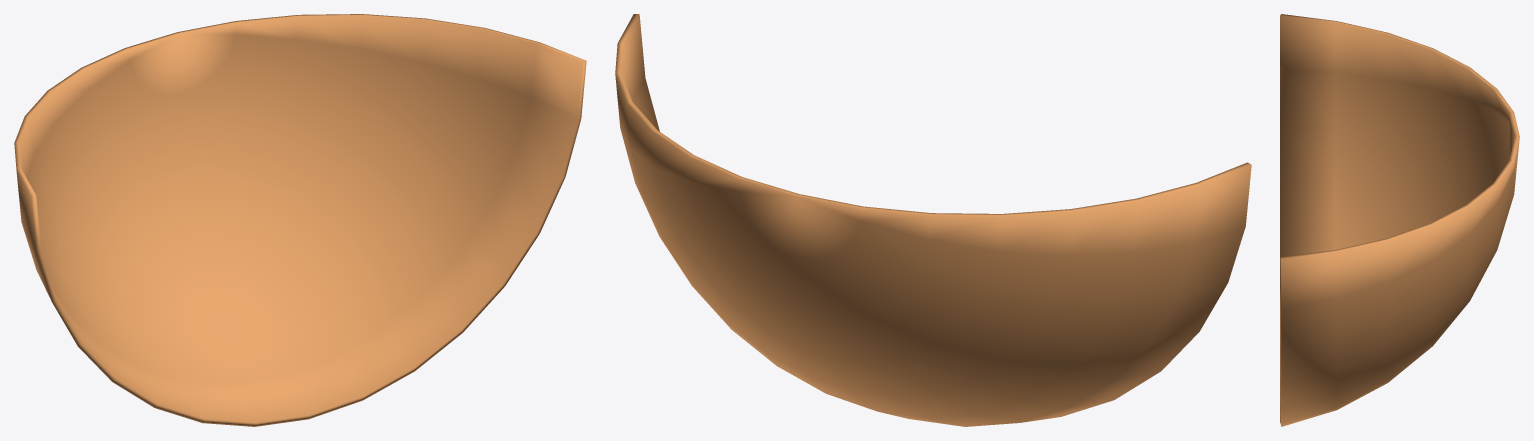
The model's file is WAY 1.fbx.
3 views of the same model, side by side, from view 1: azimuth 30°, elevation 25°; view 2: azimuth 150°, elevation 25°; view 3: azimuth 270°, elevation 25° (orthographic). The views are drawn at different scales.
Parts seen in each view (by area): view 1: Sphere.001; view 2: Sphere.001; view 3: Sphere.001.
Part boxes in pixels (x1,y1,x2,y2): Sphere.001: (14, 14, 586, 426); Sphere.001: (615, 14, 1251, 426); Sphere.001: (1280, 14, 1519, 426).
Size of the model in its own units: 944 by 473 by 390.
